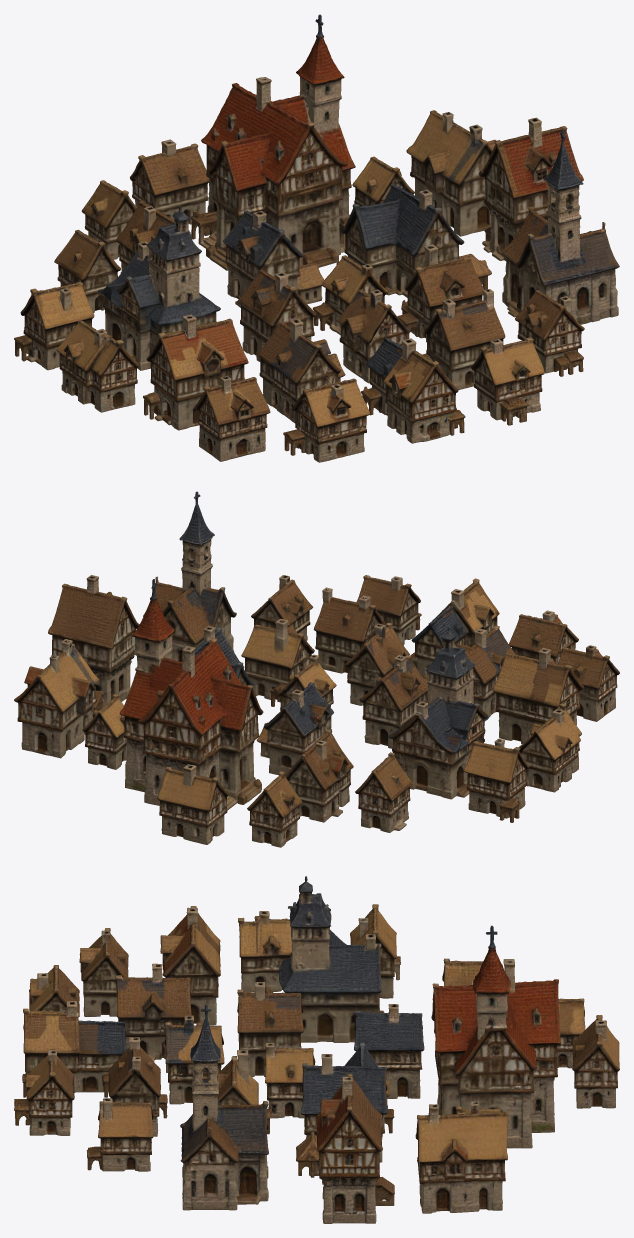
File: Medieval Town (Western).fbx
3 views of the same model, one above another, from view 1: azimuth 30°, elevation 25°; view 2: azimuth 150°, elevation 25°; view 3: azimuth 270°, elevation 25° (orthographic). The views are drawn at different scales.
Parts seen in each view (by area): view 1: tripo_node_5d669afa; view 2: tripo_node_5d669afa; view 3: tripo_node_5d669afa.
Part boxes in pixels (x1,y1,x2,y2): tripo_node_5d669afa: [14, 14, 619, 462]; tripo_node_5d669afa: [14, 491, 619, 847]; tripo_node_5d669afa: [14, 876, 619, 1223].
Bounding box in the file's own units: 0.9979 × 0.3957 × 1.
